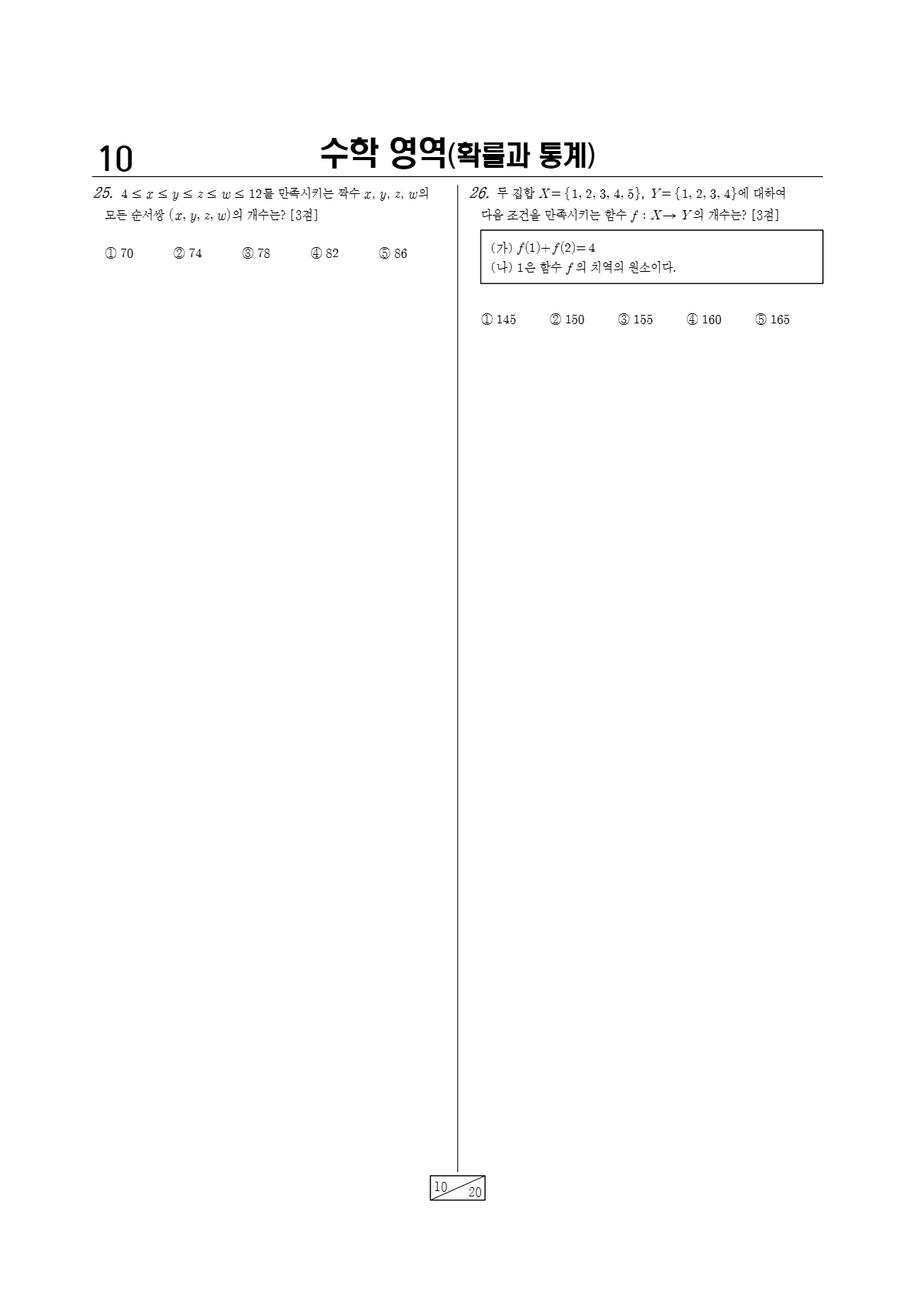opt_1: (102, 244, 117, 260), (481, 311, 493, 325)
opt_2: (549, 311, 562, 326), (172, 245, 185, 259)
opt_3: (617, 311, 630, 326), (241, 244, 253, 259)
opt_4: (309, 245, 322, 259), (686, 311, 698, 326)
opt_5: (754, 310, 766, 326), (378, 245, 391, 259)
